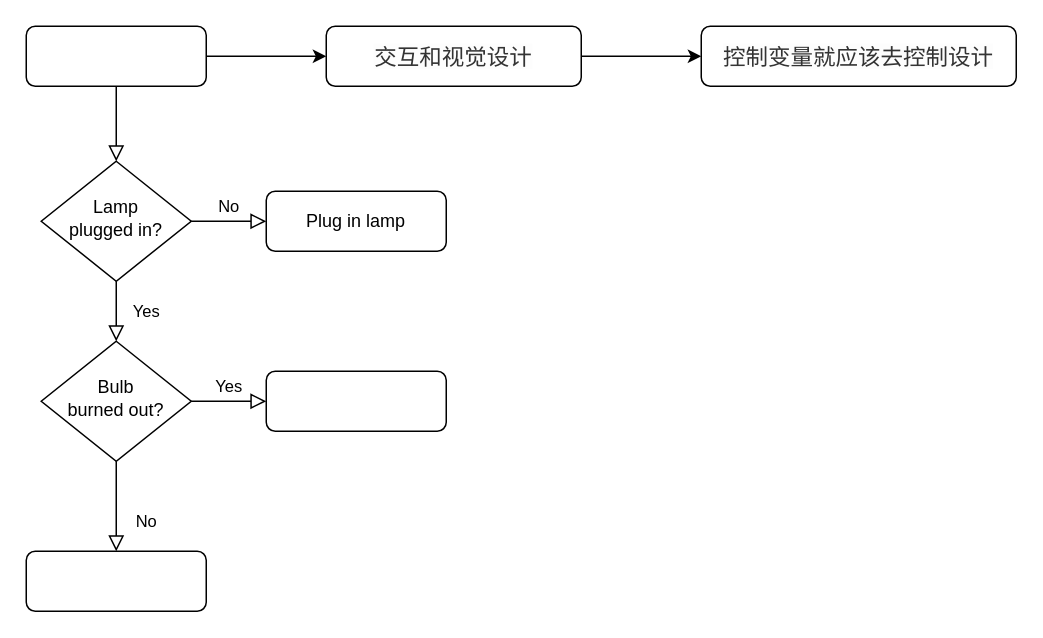
This 1043x638 diagram has some shape labels left out. The centre of each missing label's shape, as x and y in pixels:
Repair Lamp: [115,580]
Replace Bulb: [355,400]
变量: [115,55]
